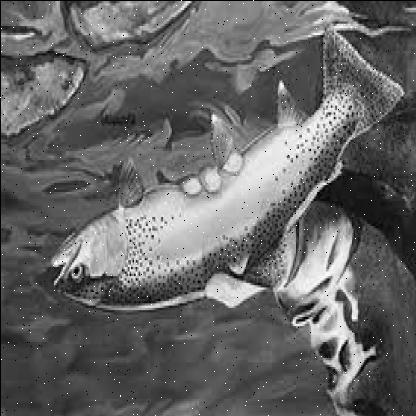fish: (51, 44, 409, 316)
